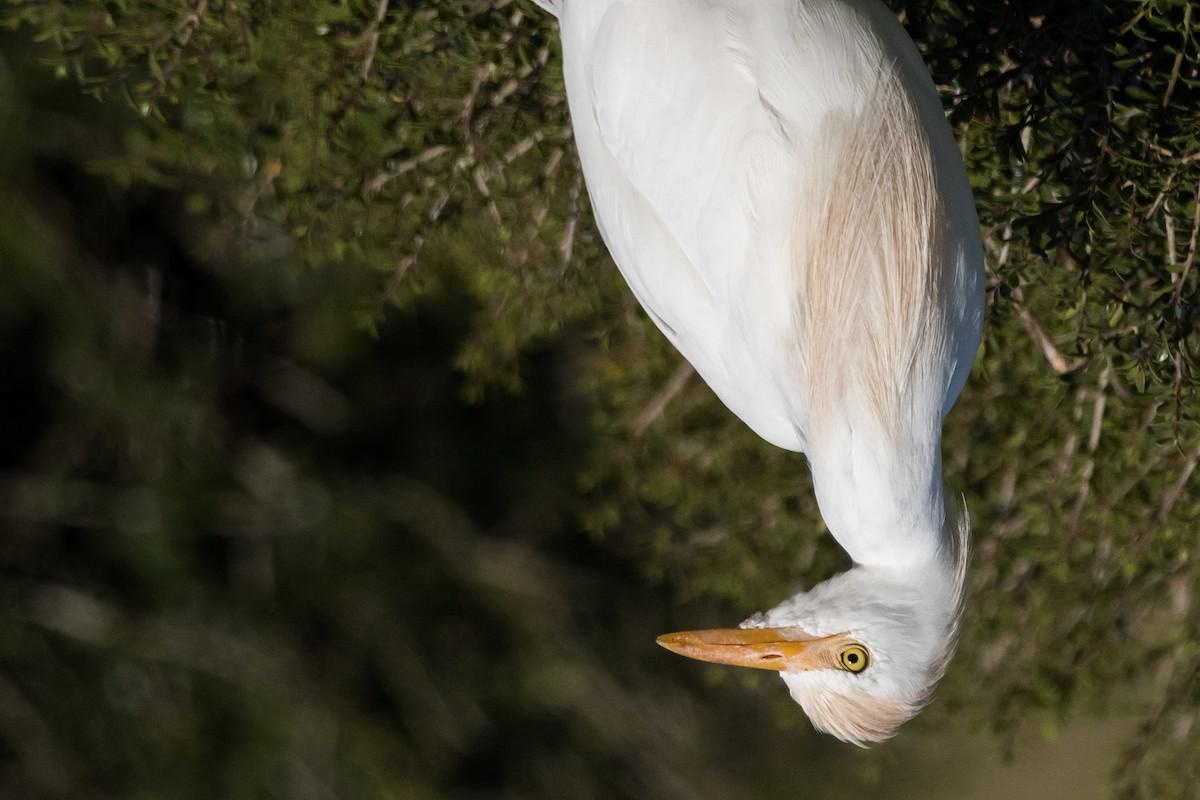egret: (469, 1, 991, 758)
